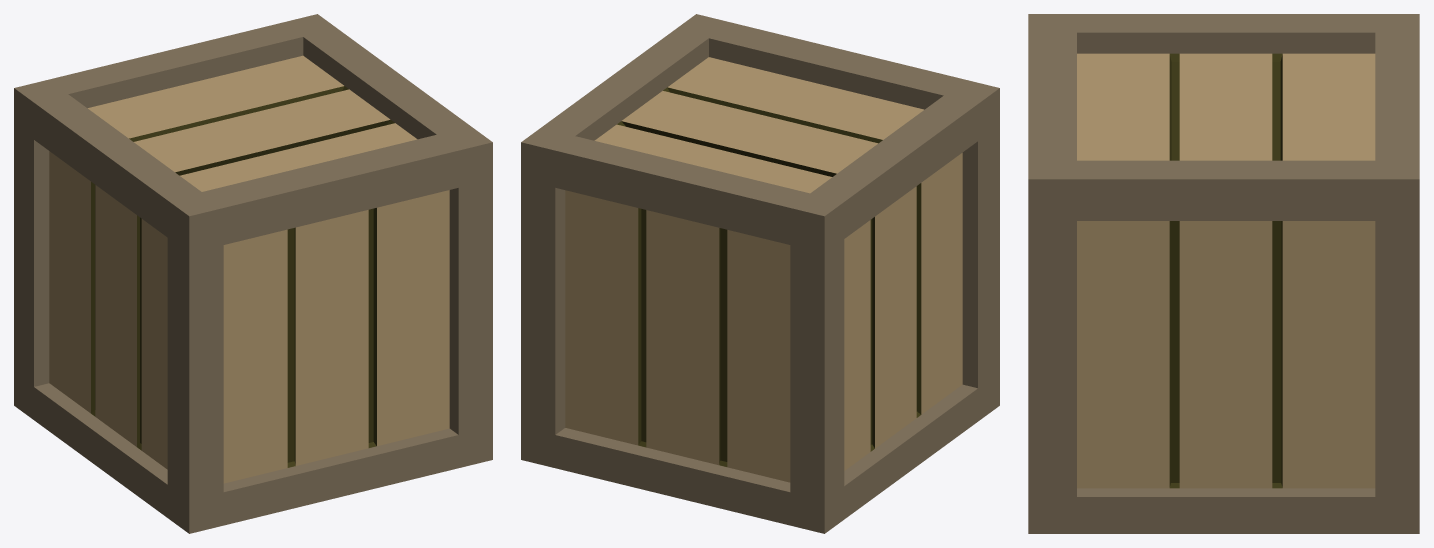
File: Crate.fbx
3 views of the same model, side by side, from view 1: azimuth 30°, elevation 25°; view 2: azimuth 150°, elevation 25°; view 3: azimuth 270°, elevation 25° (orthographic). The views are drawn at different scales.
Parts seen in each view (by area): view 1: pCube1; view 2: pCube1; view 3: pCube1.
Boxes of the visible parts, left/top/right/bottom form: pCube1: left=14, top=14, right=492, bottom=533; pCube1: left=521, top=14, right=999, bottom=533; pCube1: left=1028, top=14, right=1419, bottom=533.
Size of the model in its own units: 1.53 by 1.53 by 1.53.
